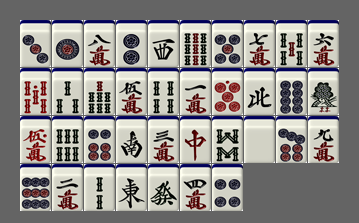0m: (20, 116, 51, 163)
0p: (212, 68, 243, 115)
0s: (20, 68, 51, 115)
1m: (180, 68, 211, 115)
1p: (52, 20, 83, 67)
1s: (308, 68, 339, 115)
1z: (116, 164, 147, 211)
2m: (52, 164, 83, 211)
2p: (116, 20, 147, 67)
2s: (84, 164, 115, 211)
2z: (116, 116, 147, 163)
3m: (148, 116, 179, 163)
3p: (20, 20, 51, 67)
3s: (52, 68, 83, 115)
3z: (148, 20, 179, 67)
4m: (180, 164, 211, 211)
4p: (212, 164, 243, 211)
4s: (148, 68, 179, 115)
4z: (244, 68, 275, 115)
5m: (116, 68, 147, 115)
5p: (212, 20, 243, 67)
5s: (276, 20, 307, 67)
5z: (244, 116, 275, 163)
6m: (308, 20, 339, 67)
6p: (84, 116, 115, 163)
6s: (52, 116, 83, 163)
6z: (148, 164, 179, 211)
7m: (244, 20, 275, 67)
7p: (276, 116, 307, 163)
7s: (84, 68, 115, 115)
7z: (180, 116, 211, 163)
8m: (84, 20, 115, 67)
8p: (276, 68, 307, 115)
8s: (212, 116, 243, 163)
9m: (308, 116, 339, 163)
9p: (20, 164, 51, 211)
9s: (180, 20, 211, 67)
